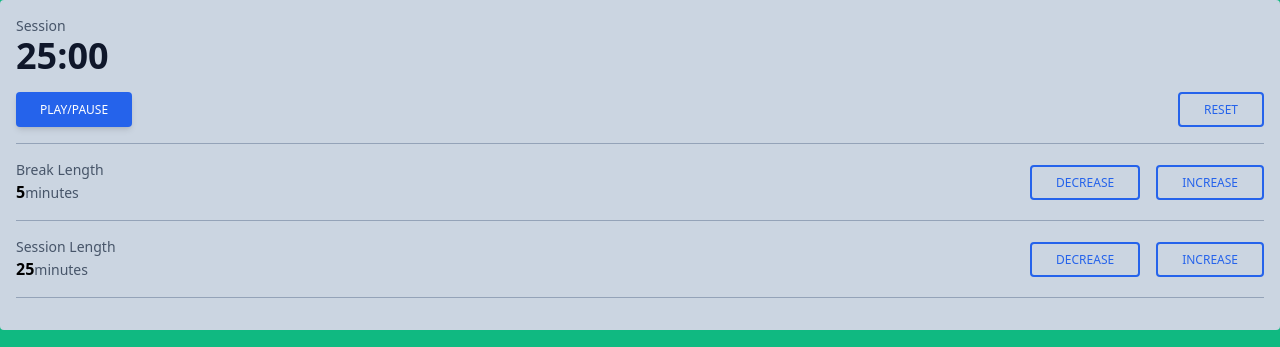
Scenario: <TwentyFivePlusFiveClock /> › When I click the element with the id of break-increment, the value within id="break-length" increments by a value of 1, and I can see the updated value
Check: the text with test id "break-length" reads "5", box [16, 181, 25, 203]
Click the button with test id "break-increment". click: (1210, 182)
box: [1156, 164, 1264, 200]
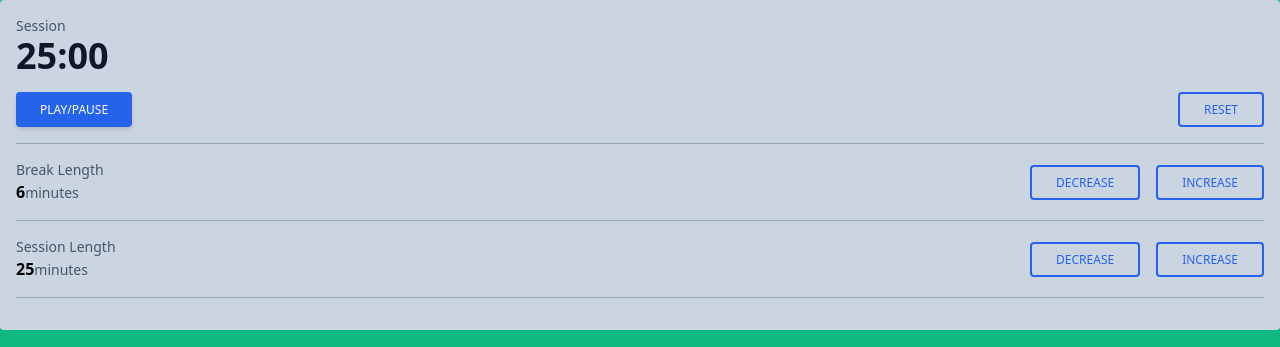
Check: the text with test id "break-length" reads "6", box [16, 181, 25, 203]
